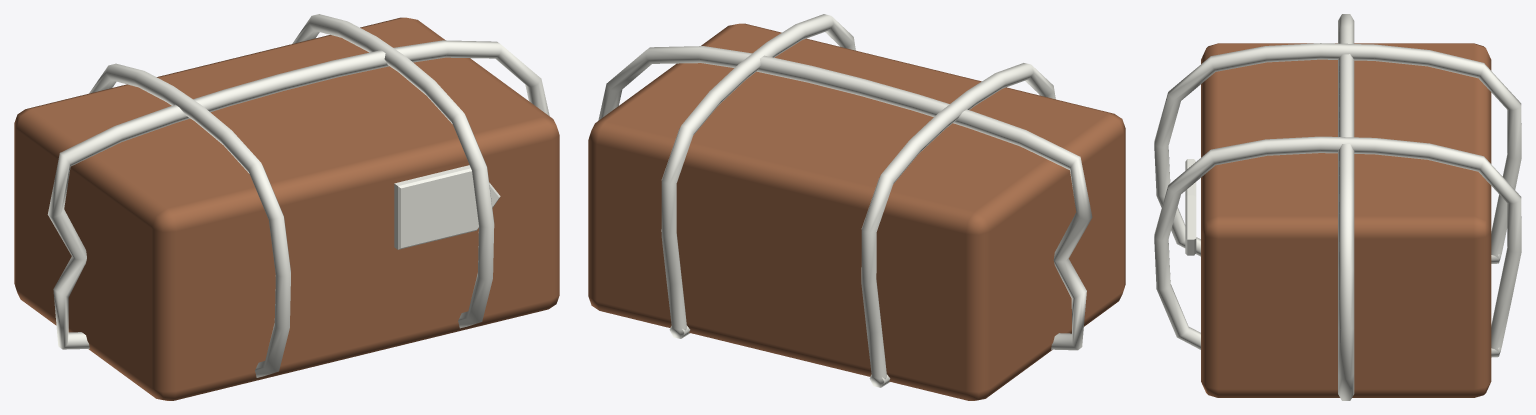
The model's file is storybook-christmas-market-twine-tied-parcel-bc3962e7__19716.glb.
3 renders of one model, left to right at view 1: azimuth 30°, elevation 25°; view 2: azimuth 150°, elevation 25°; view 3: azimuth 270°, elevation 25°, orthographic. The views are drawn at different scales.
Visible parts, largest first — view 1: twine-tied-parcel; view 2: twine-tied-parcel; view 3: twine-tied-parcel.
Part boxes in pixels (x1=…): twine-tied-parcel: x1=14, y1=14, x2=559, y2=400; twine-tied-parcel: x1=588, y1=14, x2=1125, y2=400; twine-tied-parcel: x1=1154, y1=14, x2=1521, y2=400.
Bounding box in the file's own units: 0.7901 × 0.3688 × 0.5322.
